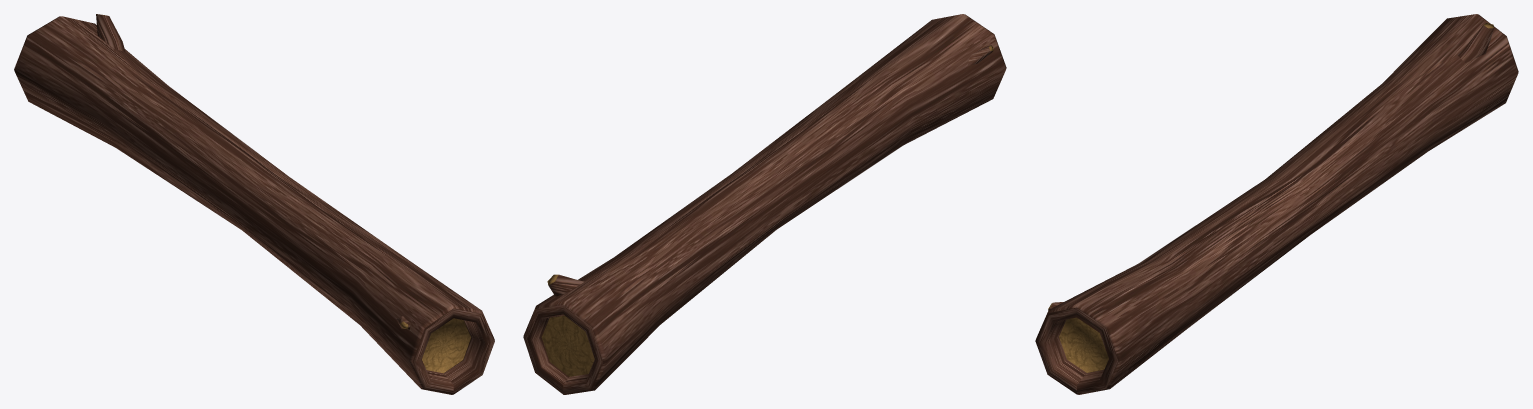
Rendered from Veg_Trunk_04_Art.fbx.
3 renders of one model, left to right at view 1: azimuth 30°, elevation 25°; view 2: azimuth 150°, elevation 25°; view 3: azimuth 330°, elevation 25°, orthographic.
Visible parts, largest first — view 1: Veg_Trunk_04; view 2: Veg_Trunk_04; view 3: Veg_Trunk_04.
Part boxes in pixels (bbox=[...]): Veg_Trunk_04: bbox=[14, 14, 494, 394]; Veg_Trunk_04: bbox=[523, 14, 1006, 394]; Veg_Trunk_04: bbox=[1035, 14, 1518, 394].
Size of what is drawn, in the model's own units: 50.32 by 54.23 by 390.
